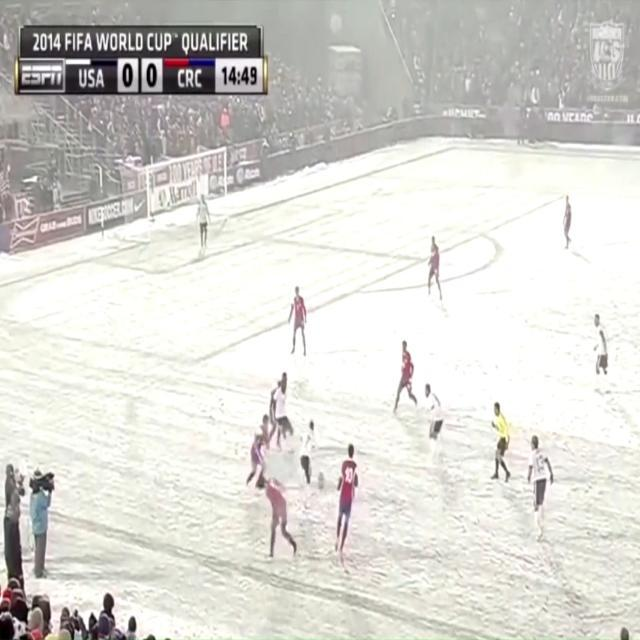ball: (317, 470, 329, 496)
goalkeeper: (194, 187, 218, 262)
player: (259, 475, 303, 562), (525, 434, 553, 547), (339, 443, 362, 569), (421, 382, 451, 470), (587, 308, 615, 400), (394, 329, 420, 428), (249, 409, 275, 492), (289, 276, 311, 365), (426, 234, 448, 311), (275, 382, 295, 455), (269, 372, 289, 445), (558, 184, 574, 264), (301, 416, 317, 493)
referee: (486, 402, 518, 491)
